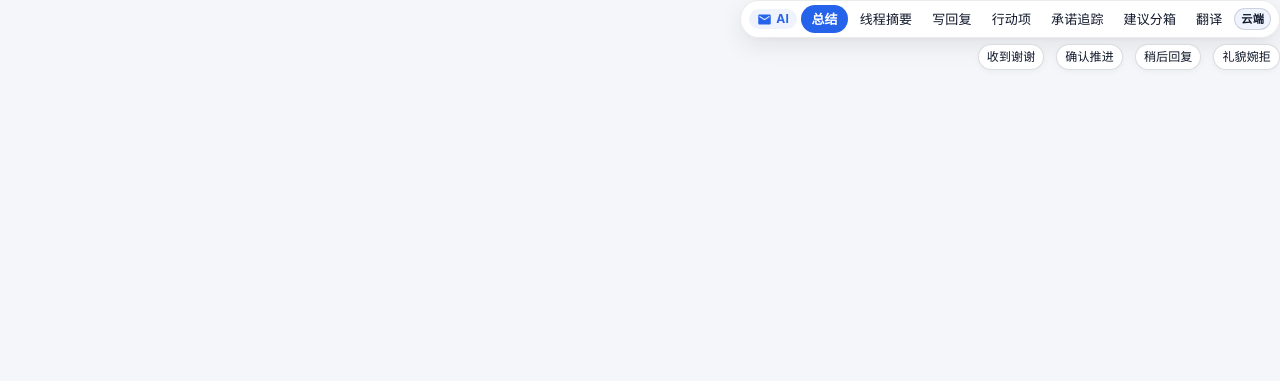
Test case: shows 线程摘要 button when multiple threadMessages exist and renders timeline on click
Click the button with test id "thread-summary-button". click: (886, 19)
box: x1=852 y1=5 x2=920 y2=33
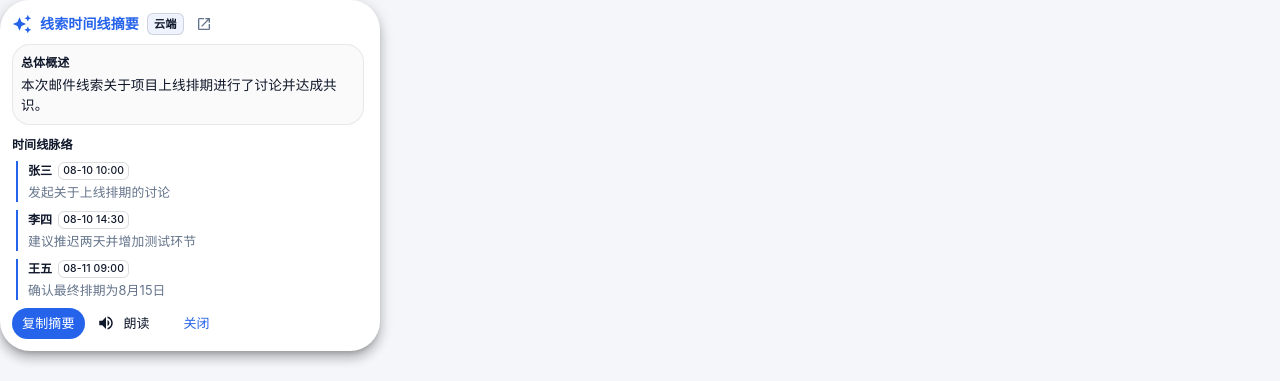
Now the heading "线索时间线摘要" is shown, box x1=40 y1=13 x2=139 y2=35
Now the element with test id "thread-overall-summary" is shown, box x1=12 y1=44 x2=364 y2=125
Now the text "本次邮件线索关于项目上线排期进行了讨论并达成共识。" is shown, box x1=21 y1=75 x2=355 y2=116
